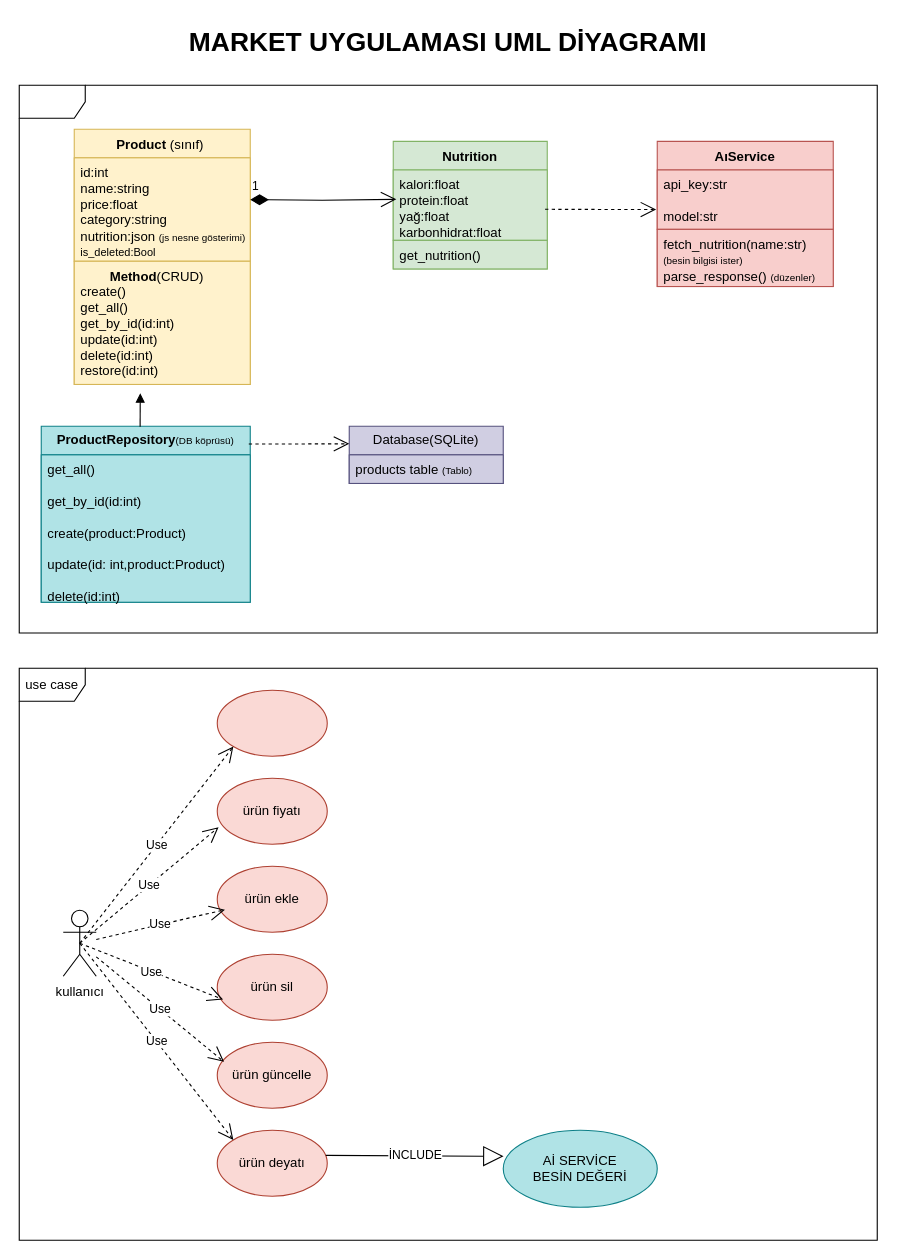
Image size: 897x1260. Some labels were removed from this diagram. The shapes that lost their labels are listed below. From the top down, each one's centre as x and y in pixels, then its label:
At (447,358): "Class diagram".
At (271,722): "filtrele".
